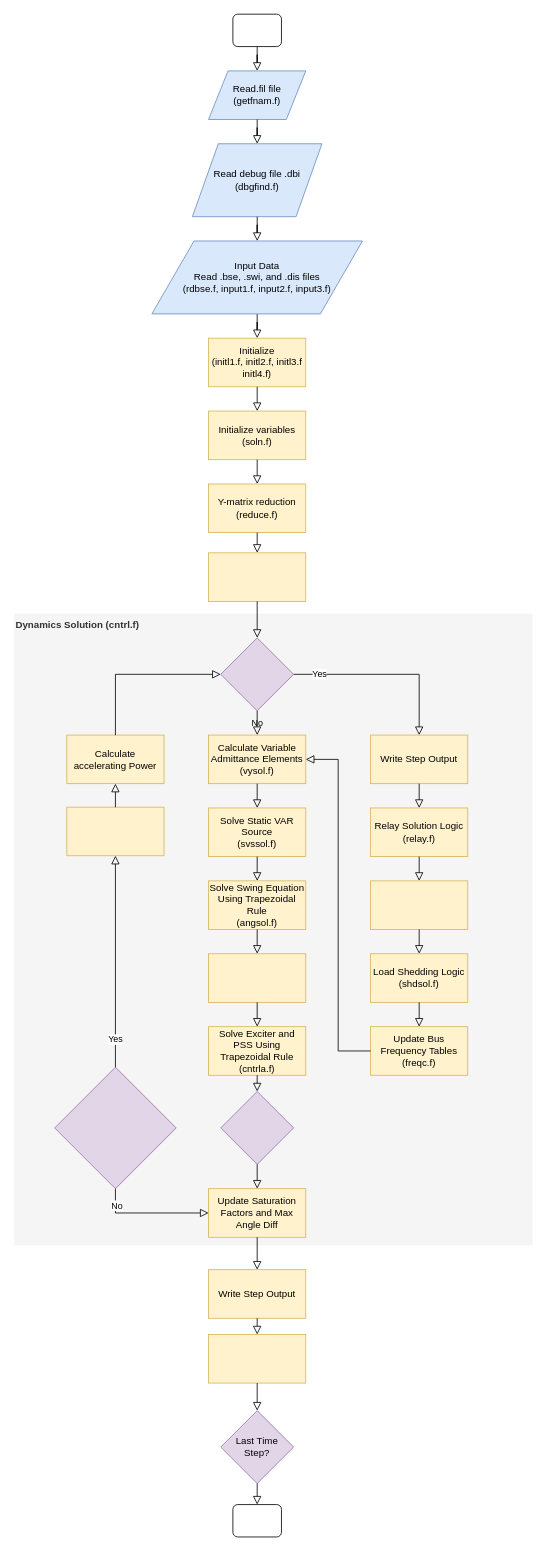
Some shapes in this 546 by 1551 pixel diagram are drawn without their labels. Each missing label, with the centre of its shape:
Converge?: the point at 257,1127
Discontinuity ?: the point at 257,674
End: the point at 256,1520
Increment Time Step: the point at 257,1358
Initial Network Solution (deriv.f): the point at 257,576
Machine Equation Iter. (lppwr) is 0 or < max diff eq. iter?: the point at 115,1127
Network Solution (deriv.f): the point at 115,831
Resistive Brake Logic (brksol.f): the point at 419,904
Solve Governors (govsol.f): the point at 257,977
Start: the point at 256,30
